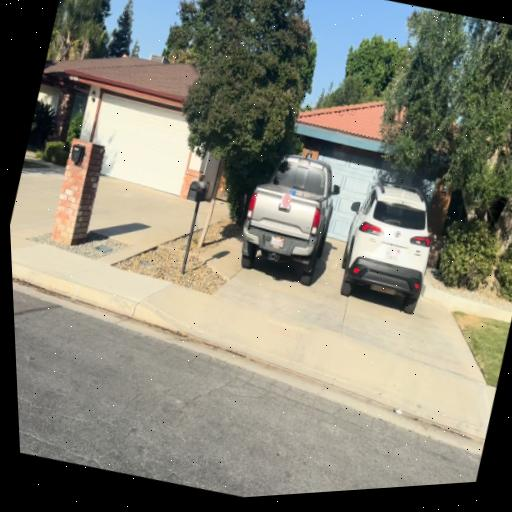bullseye: (280, 192, 292, 208)
